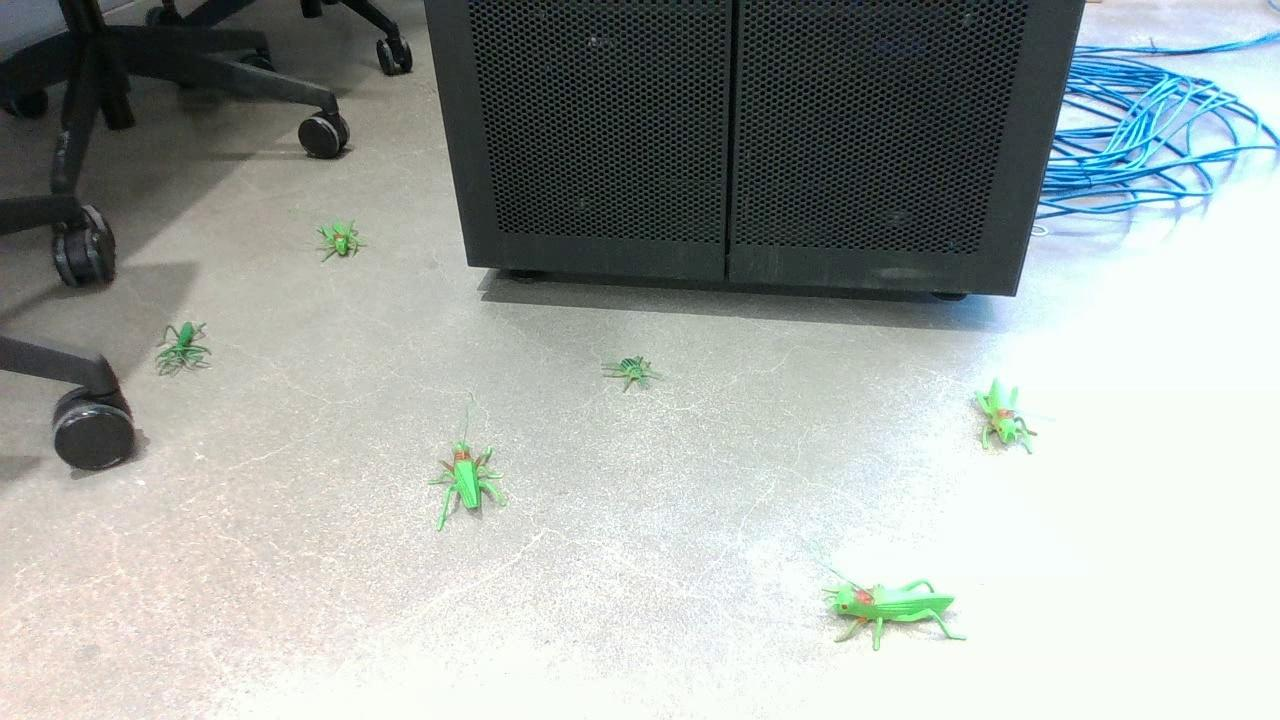grasshopper: (821, 576, 965, 649), (425, 445, 505, 523), (968, 380, 1040, 460), (321, 224, 366, 261)
